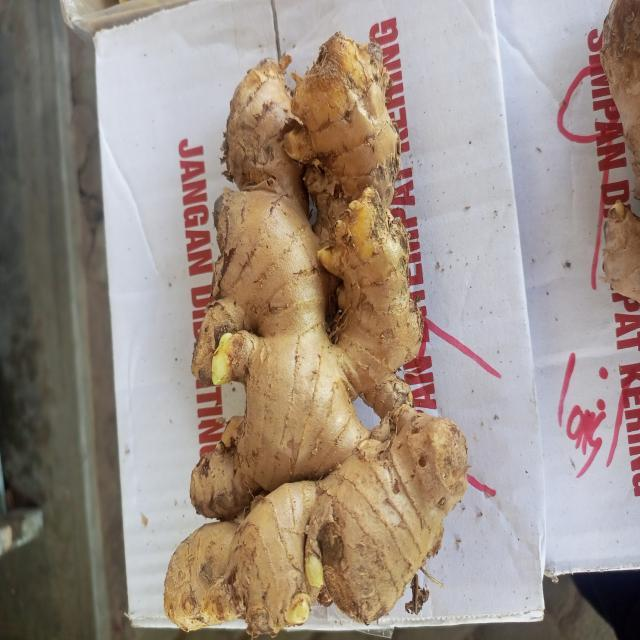ginger: (165, 30, 473, 622)
